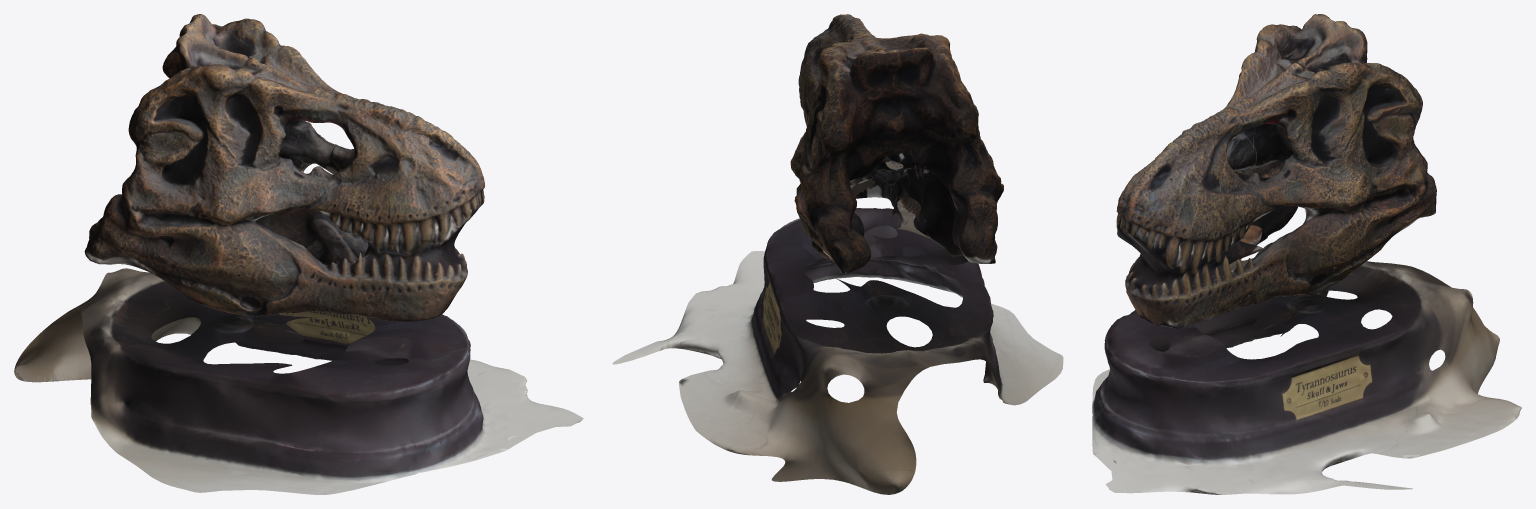
File: trex-animado.glb
The picture shows the model from 3 angles, left to right: view 1: azimuth 30°, elevation 25°; view 2: azimuth 150°, elevation 25°; view 3: azimuth 270°, elevation 25°; orthographic projection. The views are drawn at different scales.
Parts seen in each view (by area): view 1: Object_2, Object_3; view 2: Object_3, Object_2; view 3: Object_2, Object_3.
Boxes of the visible parts, x1,y1,x2,y2 form: Object_2: (90, 19, 526, 494); Object_3: (14, 14, 583, 461); Object_3: (612, 18, 1008, 494); Object_2: (685, 14, 1063, 426); Object_2: (1092, 32, 1464, 494); Object_3: (1092, 14, 1521, 494).
Bounding box in the file's own units: 33.72 × 35.3 × 35.16.
2 materials, 2 textured.
